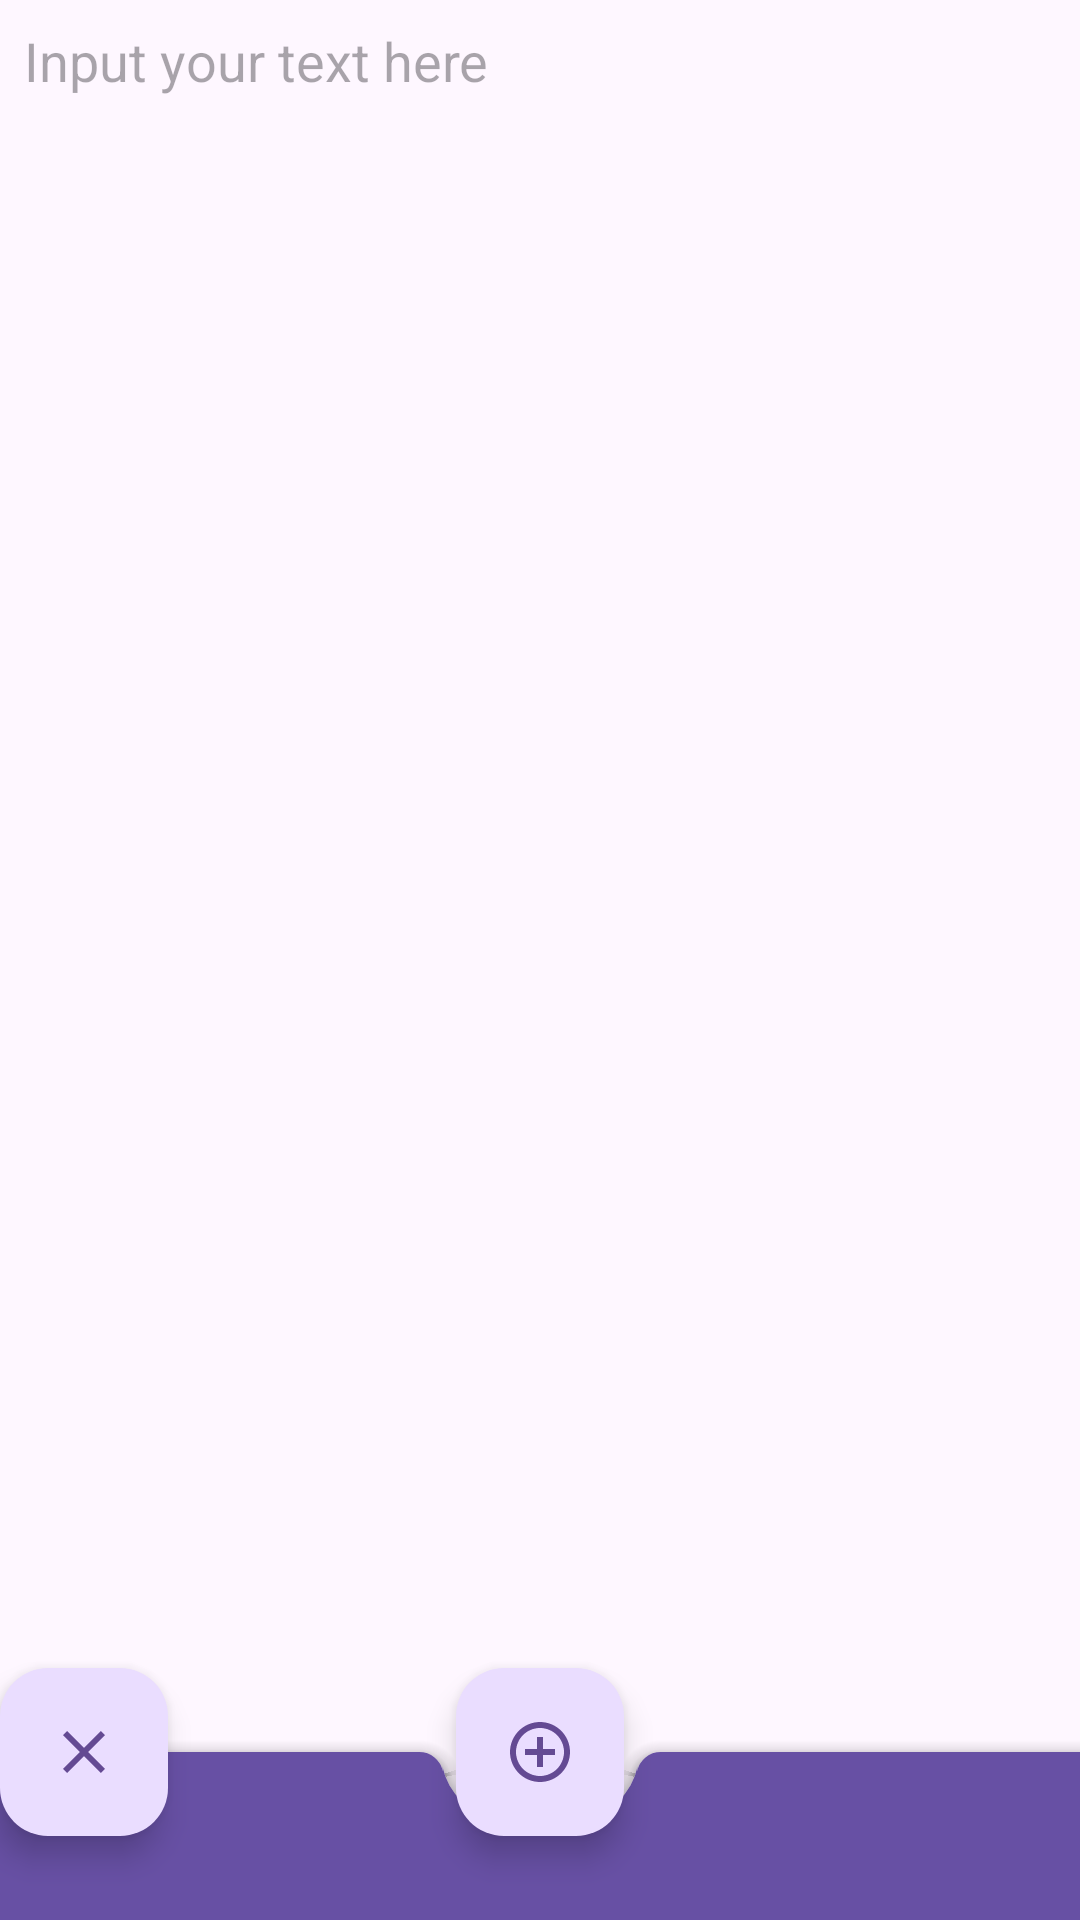

Where to tap for icons on this 1080×1920 app screen, as point (x, y):
clear: point (84, 1752)
